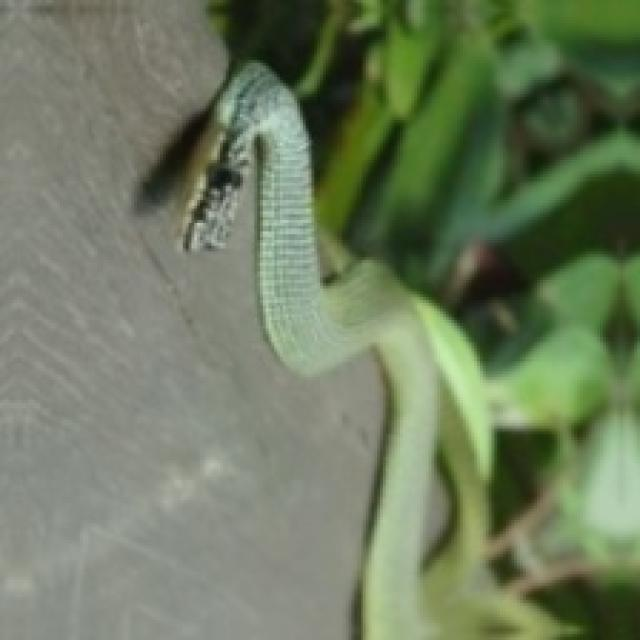paradise tree snake: (180, 63, 557, 637), (183, 63, 486, 637)
